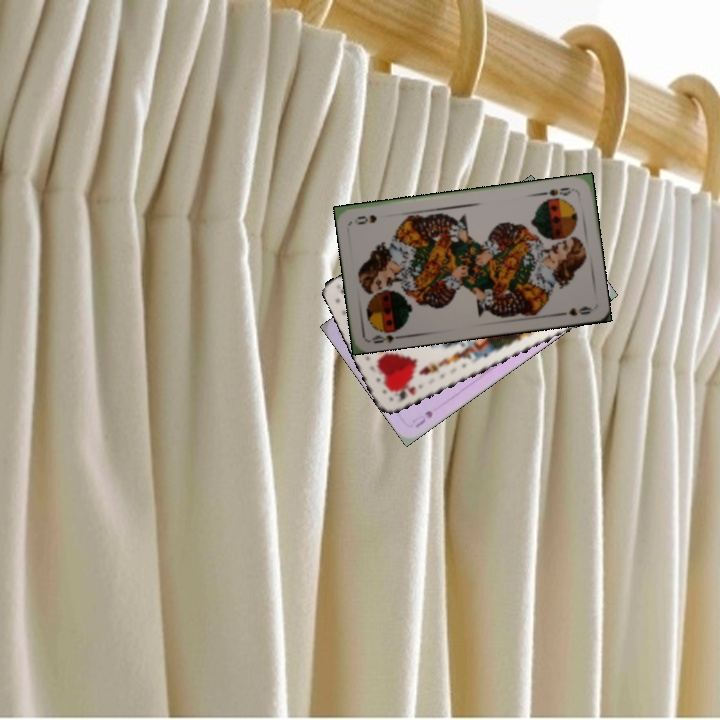HK: (391, 382, 418, 403)
SO: (367, 323, 407, 346), (537, 183, 578, 199)
SU: (408, 406, 435, 431)
